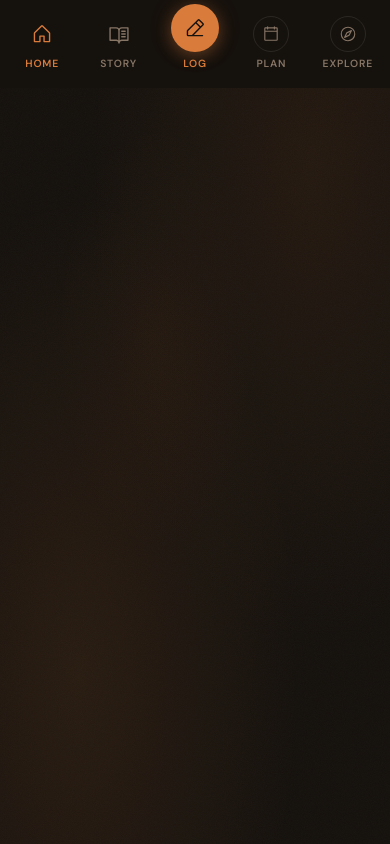
MobileBottomNav › Explore tray contains 4 menuitems (incl. Library) when opened
Click the button with aria-label "Explore menu" at (348, 44), box [310,8,386,80]
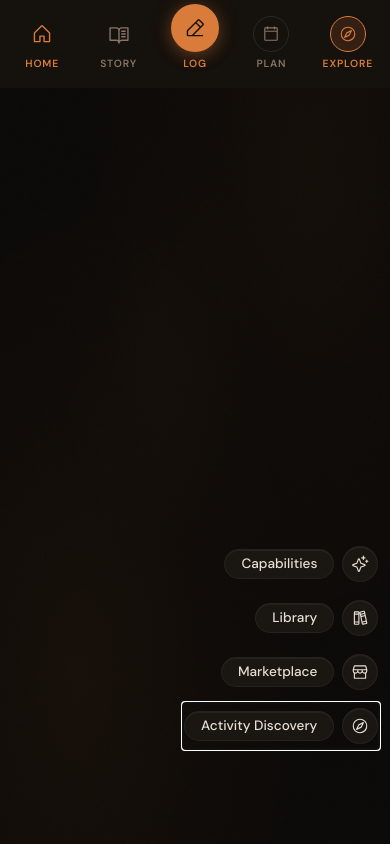
Result: the number of menu items is 4 at [224,546,378,582]; [255,600,378,636]; [221,654,378,690]; [184,704,378,748]
Result: the menu item "Library" is shown at [255,600,378,636]
